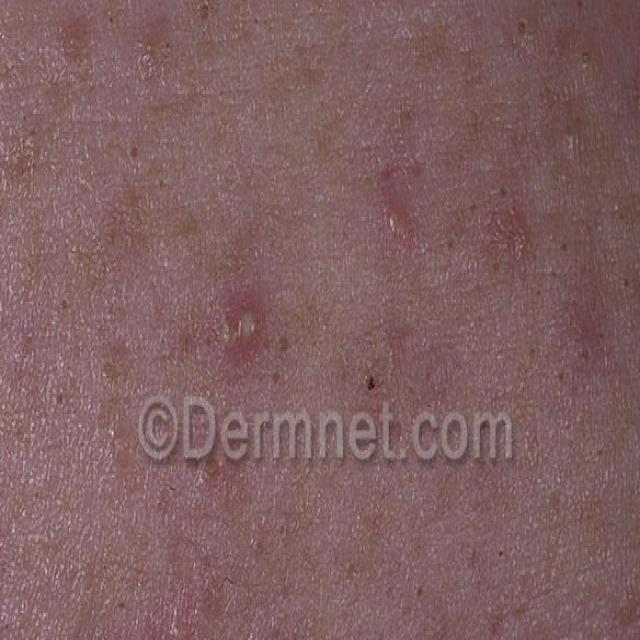Acne: (348, 42, 640, 358), (487, 150, 640, 526), (0, 5, 198, 195), (0, 257, 125, 492), (221, 236, 282, 390), (357, 354, 422, 469)
